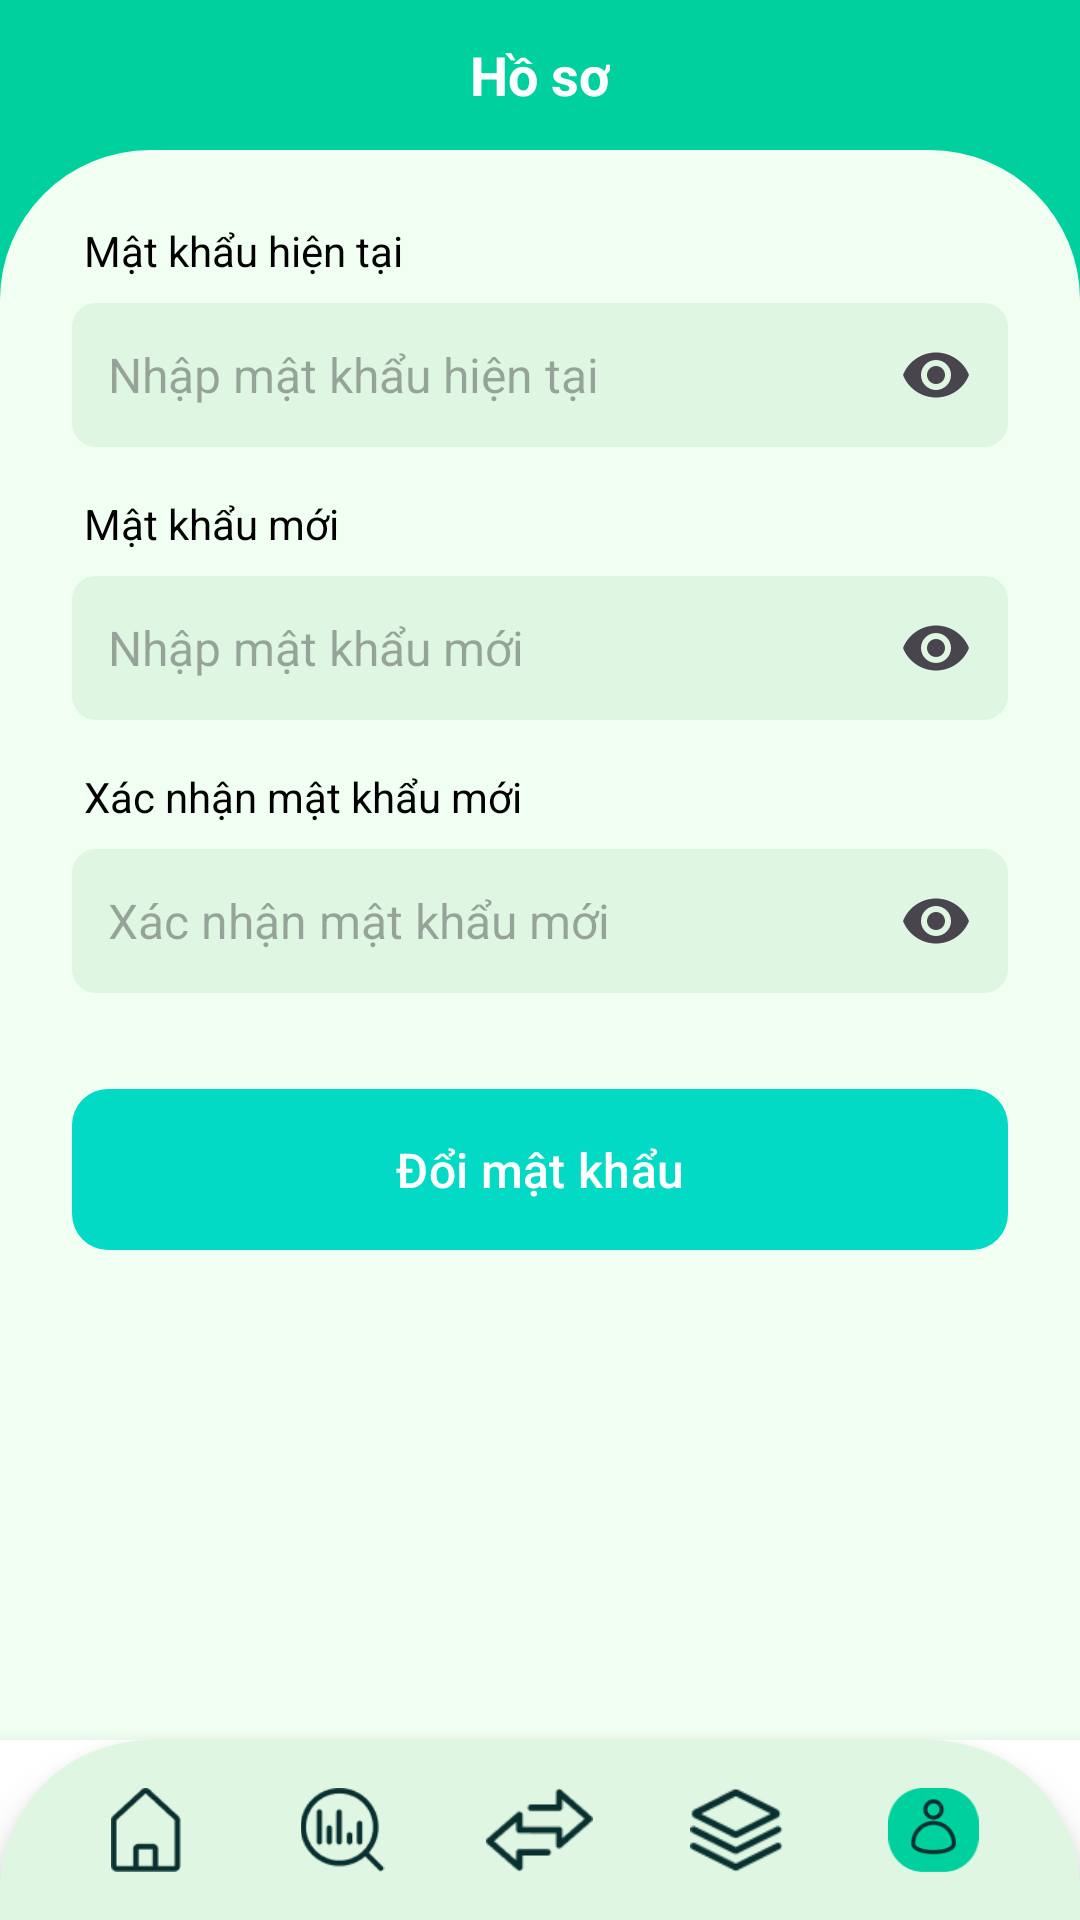

Screen size 1080×1920. Icon name, then its center in pixels as (x,y):
analysis: (343,1830)
category: (736,1830)
home: (146,1830)
trans: (539,1830)
visibility: (936,375), (936,648), (936,921)
